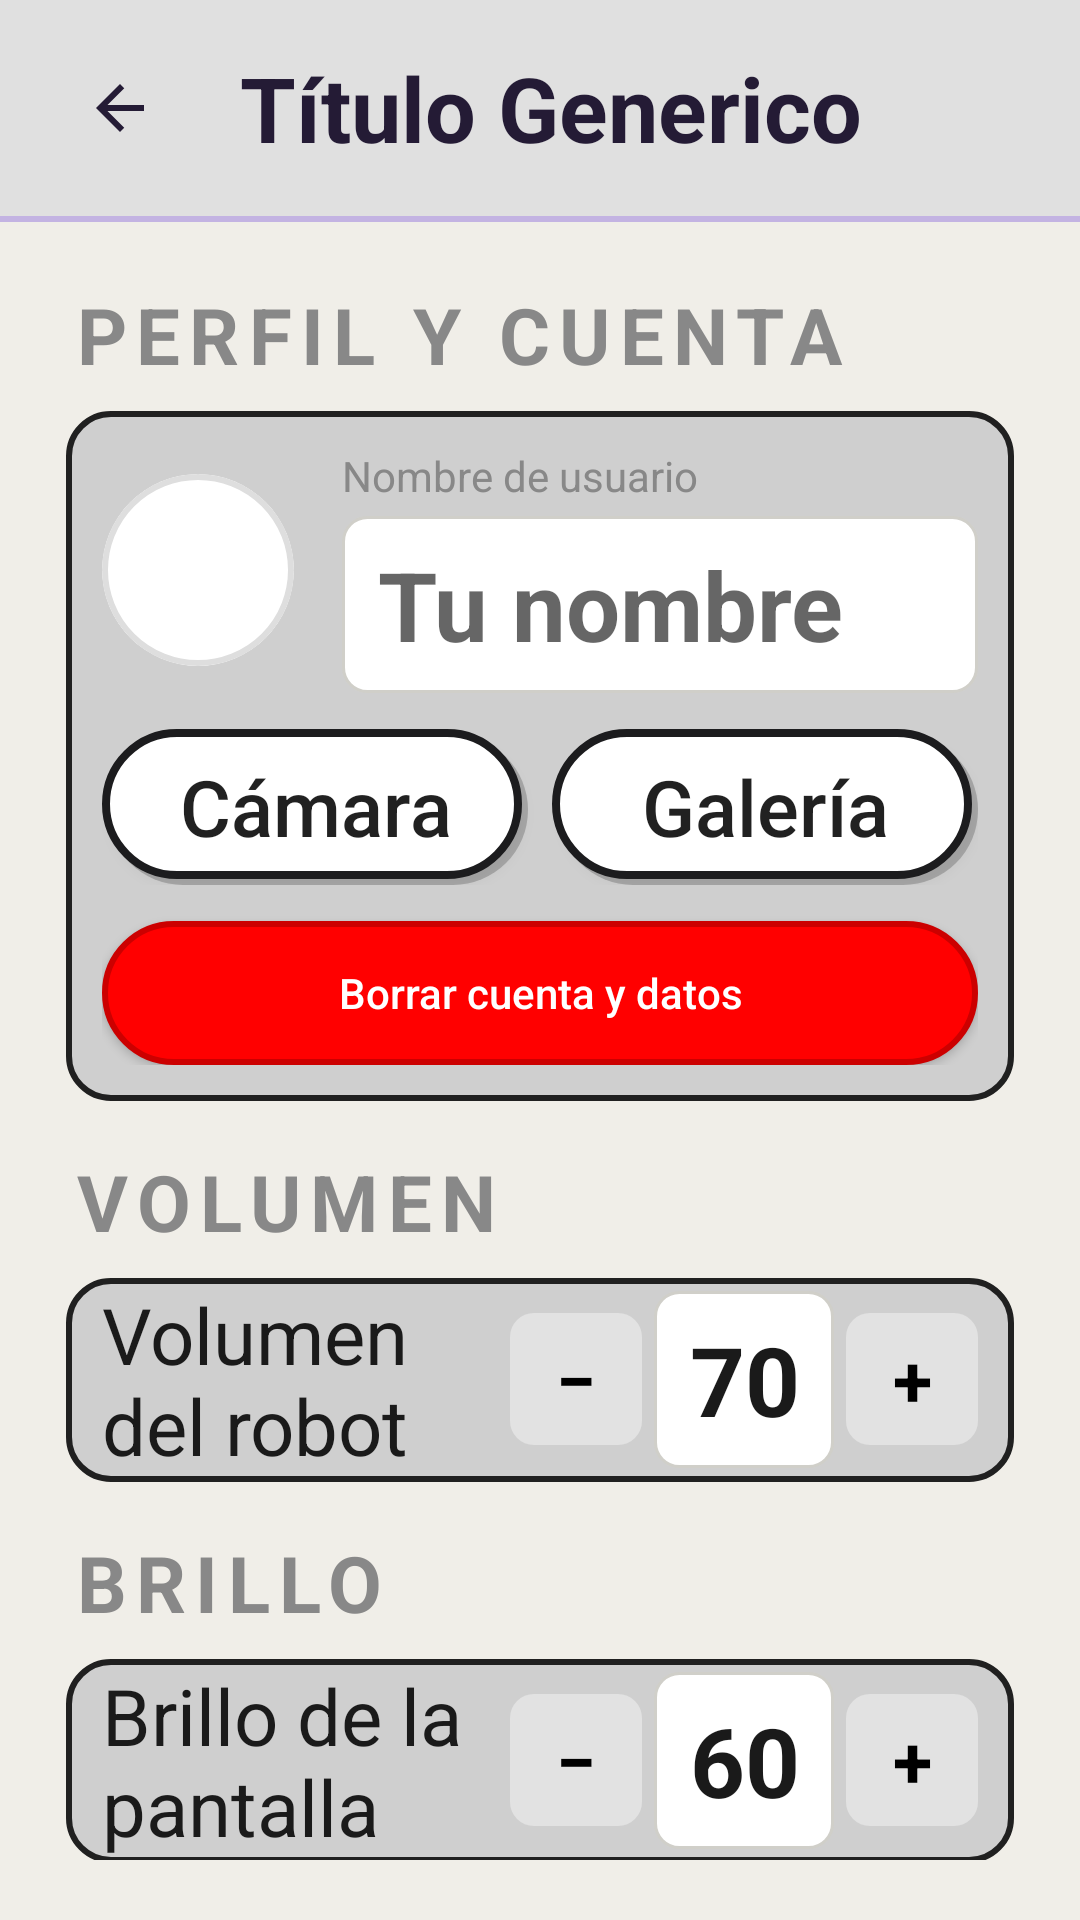

Screen size 1080 × 1920. Icon name, then its center in pixels as (x=x, y=y):
Atrás: (x=120, y=108)
